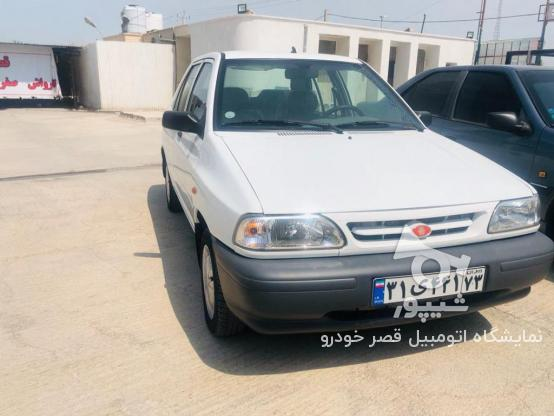car: (369, 265, 483, 306)
